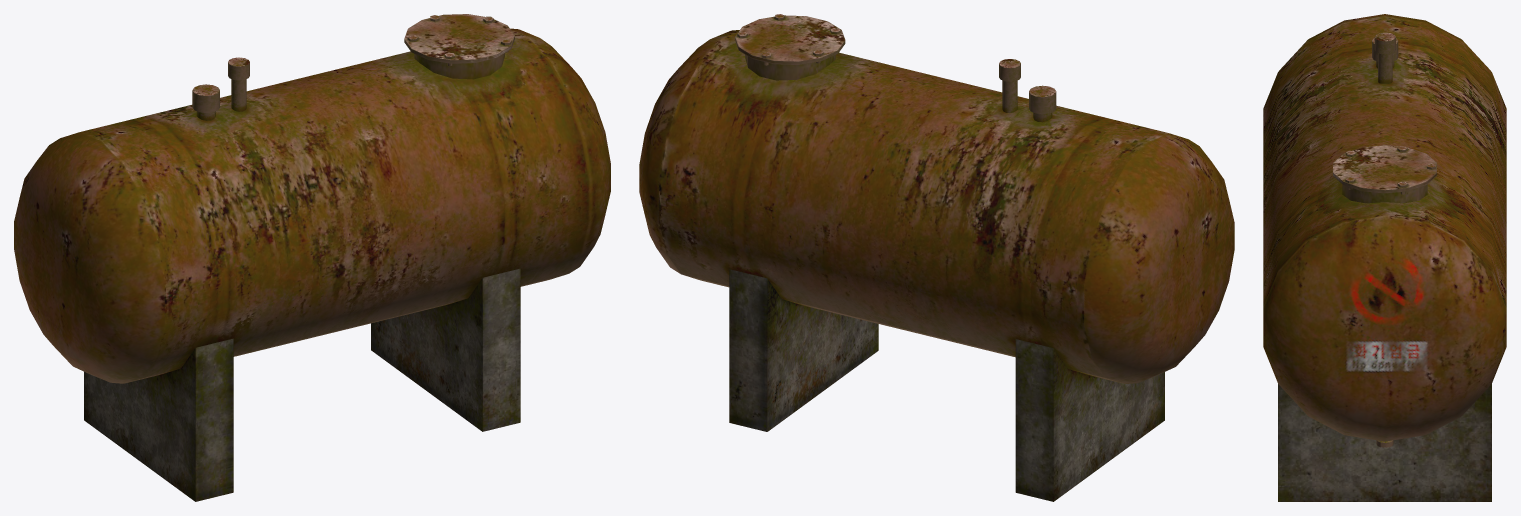
3 renders of one model, left to right at view 1: azimuth 30°, elevation 25°; view 2: azimuth 150°, elevation 25°; view 3: azimuth 270°, elevation 25°, orthographic. The views are drawn at different scales.
Parts seen in each view (by area): view 1: Object001; view 2: Object001; view 3: Object001.
Part boxes in pixels (x1,y1,x2,y2): Object001: (14, 14, 610, 501); Object001: (639, 14, 1234, 501); Object001: (1263, 14, 1506, 501).
Bounding box in the file's own units: 74052 × 51356 × 31514.
1 material, 1 textured.
